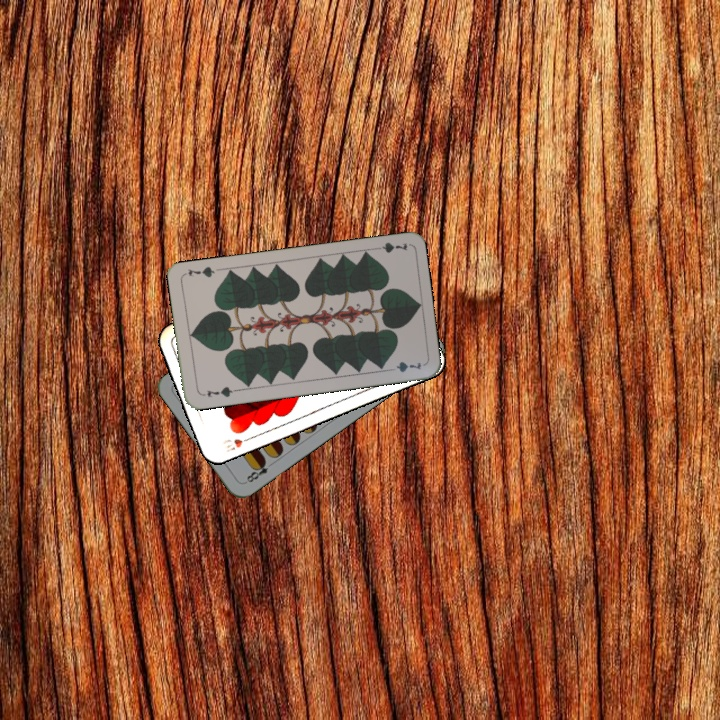E8: (241, 456, 277, 486)
G7: (368, 238, 410, 255), (203, 382, 238, 400)
H10: (217, 432, 256, 455)
